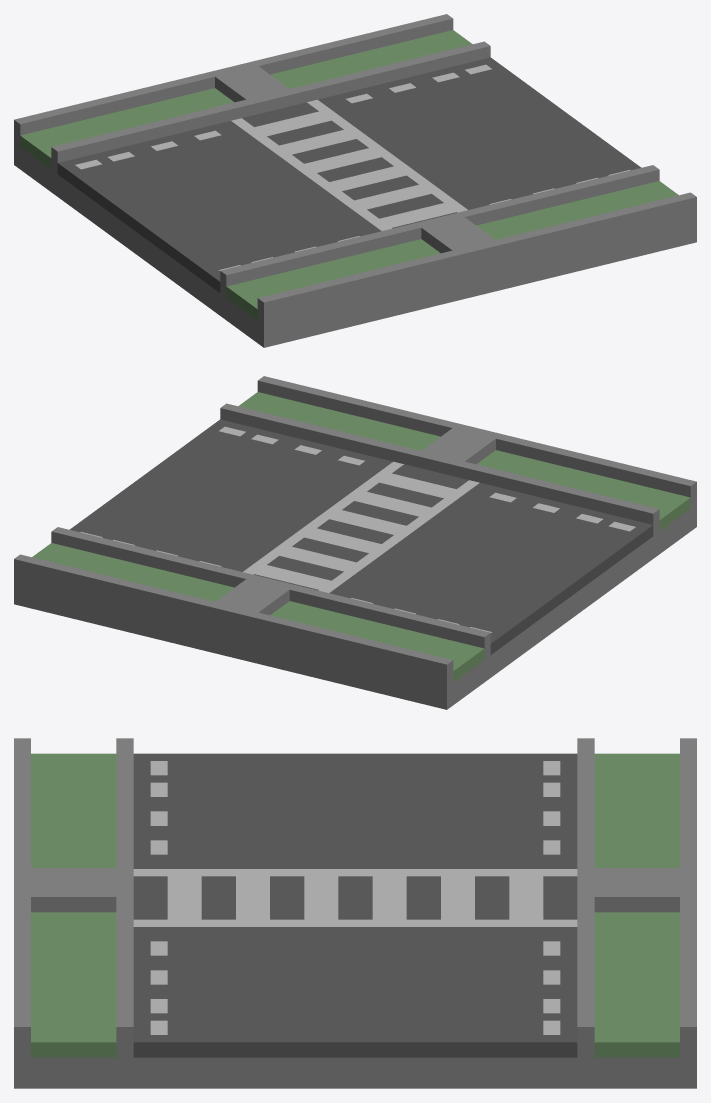
File: RoadHorFin.vox-0-RoadHor.vox.obj
The picture shows the model from 3 angles, top to bottom: view 1: azimuth 30°, elevation 25°; view 2: azimuth 150°, elevation 25°; view 3: azimuth 270°, elevation 25°; orthographic projection. The views are drawn at different scales.
Parts seen in each view (by area): view 1: RoadHor; view 2: RoadHor; view 3: RoadHor.
Boxes of the visible parts, bbox=[...] form: RoadHor: bbox=[14, 14, 696, 347]; RoadHor: bbox=[14, 376, 696, 709]; RoadHor: bbox=[14, 738, 696, 1088].
Size of the model in its own units: 4 by 0.4 by 4.
Materials: 1 (1 with a texture image).
